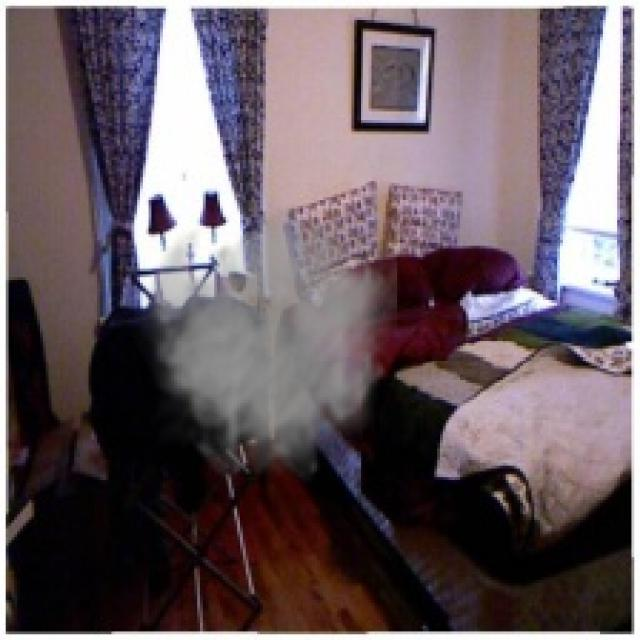smoke: (129, 203, 397, 486)
